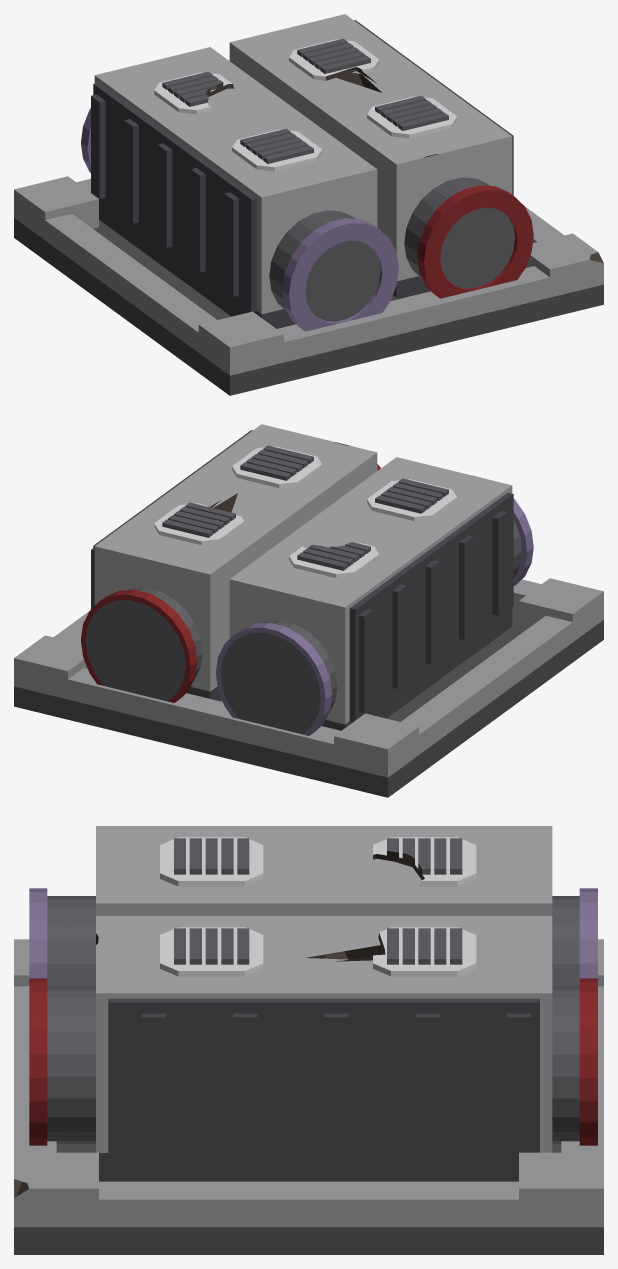
Rendered from vge_d_astropurifier.obj.
3 renders of one model, top to bottom at view 1: azimuth 30°, elevation 25°; view 2: azimuth 150°, elevation 25°; view 3: azimuth 270°, elevation 25°, orthographic. The views are drawn at different scales.
Visible parts, largest first — view 1: vge_d_astropurifier; view 2: vge_d_astropurifier; view 3: vge_d_astropurifier.
Part boxes in pixels (box(x1,y1,x2,y2)): vge_d_astropurifier: box(14, 14, 603, 395); vge_d_astropurifier: box(14, 424, 603, 797); vge_d_astropurifier: box(14, 826, 603, 1254).
Bounding box in the file's own units: 1.94 × 0.84 × 1.94.
